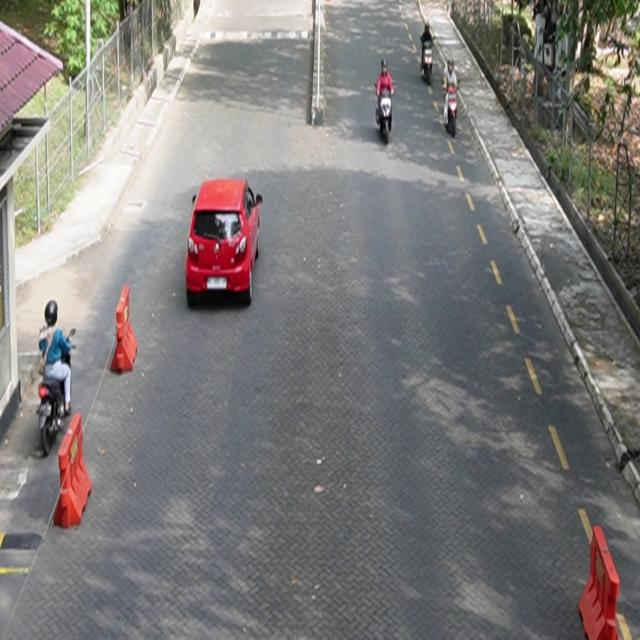car: (186, 178, 264, 307)
